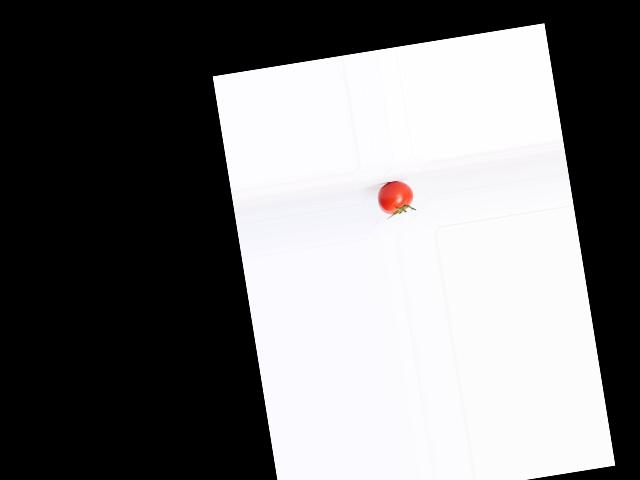tomato: (374, 178, 415, 216)
